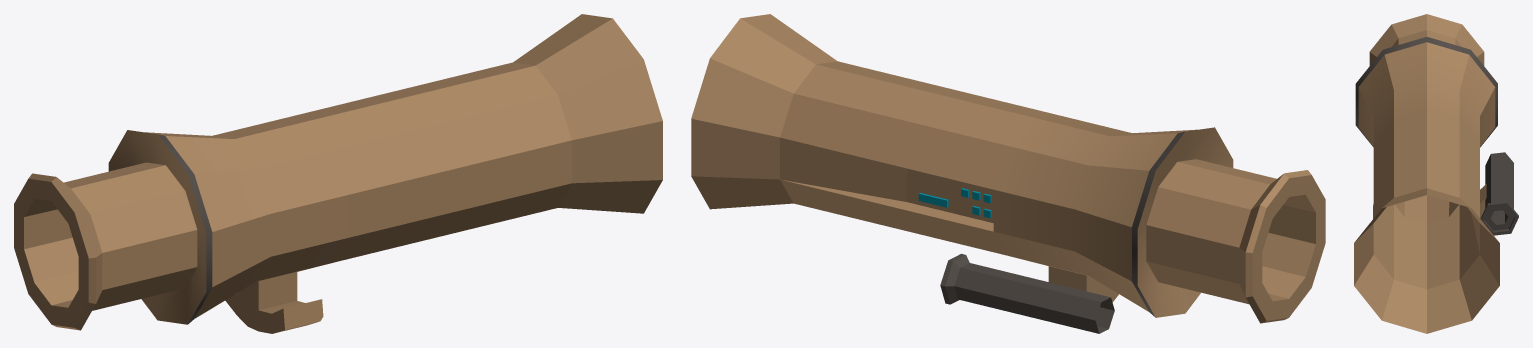
The model's file is Pizza Gun.fbx.
The picture shows the model from 3 angles, left to right: view 1: azimuth 30°, elevation 25°; view 2: azimuth 150°, elevation 25°; view 3: azimuth 270°, elevation 25°; orthographic projection. The views are drawn at different scales.
Visible parts, largest first — view 1: polySurface441; view 2: polySurface441; view 3: polySurface441.
Boxes of the visible parts, bbox=[...] form: polySurface441: bbox=[14, 14, 662, 333]; polySurface441: bbox=[691, 14, 1325, 333]; polySurface441: bbox=[1354, 14, 1518, 333].
Size of the model in its own units: 2.19 by 0.8183 by 0.7665.
